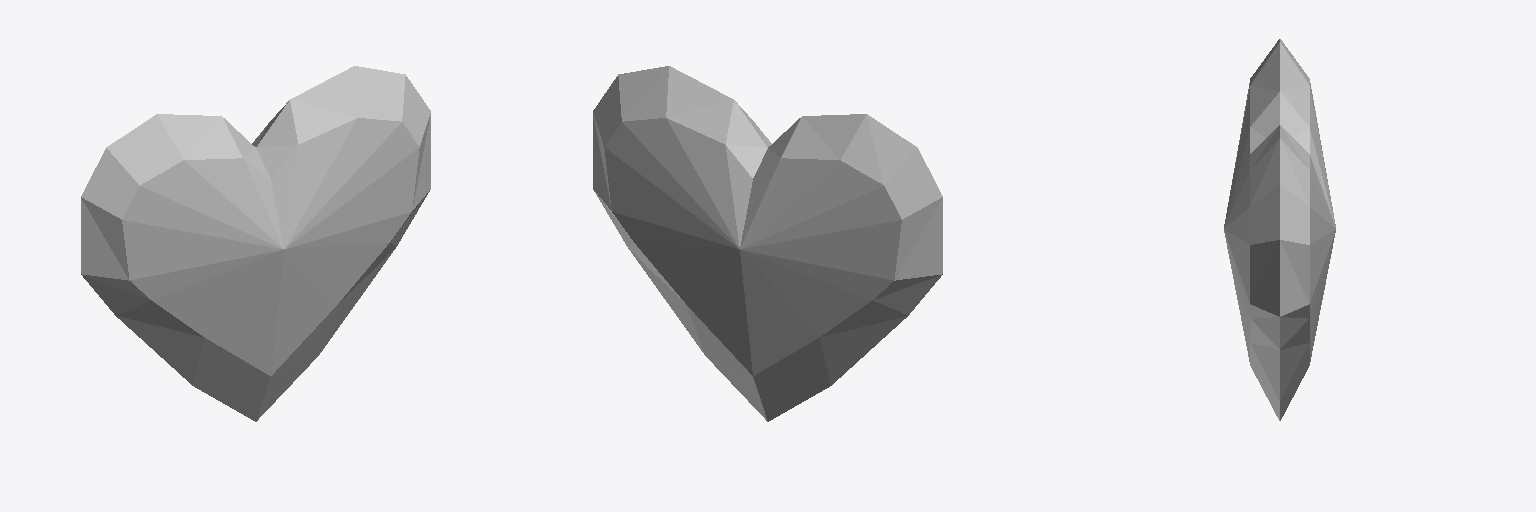
File: heart.obj
The picture shows the model from 3 angles: view 1: azimuth 30°, elevation 25°; view 2: azimuth 150°, elevation 25°; view 3: azimuth 270°, elevation 25°; orthographic projection.
Visible parts, largest first — view 1: Cube_Cube.003; view 2: Cube_Cube.003; view 3: Cube_Cube.003.
Part boxes in pixels (left/top/right/bottom): Cube_Cube.003: left=81, top=66, right=430, bottom=421; Cube_Cube.003: left=593, top=66, right=942, bottom=421; Cube_Cube.003: left=1224, top=39, right=1335, bottom=420.
Size of the model in its own units: 1 by 0.9066 by 0.2784.